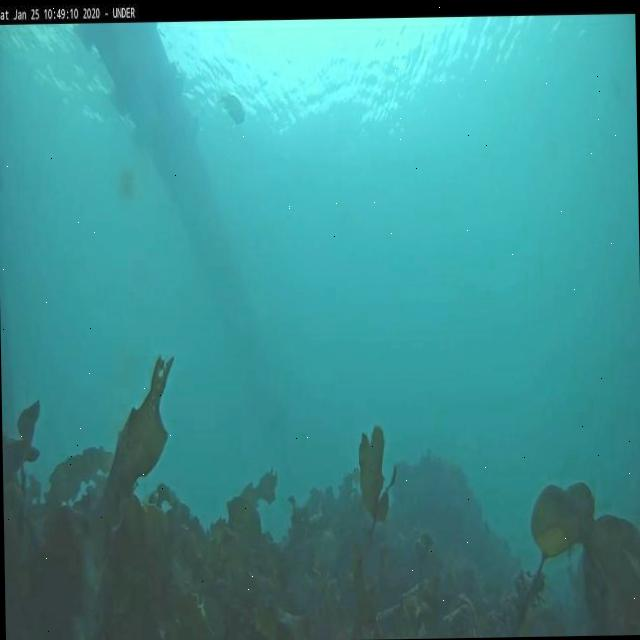fish: (217, 95, 244, 124)
